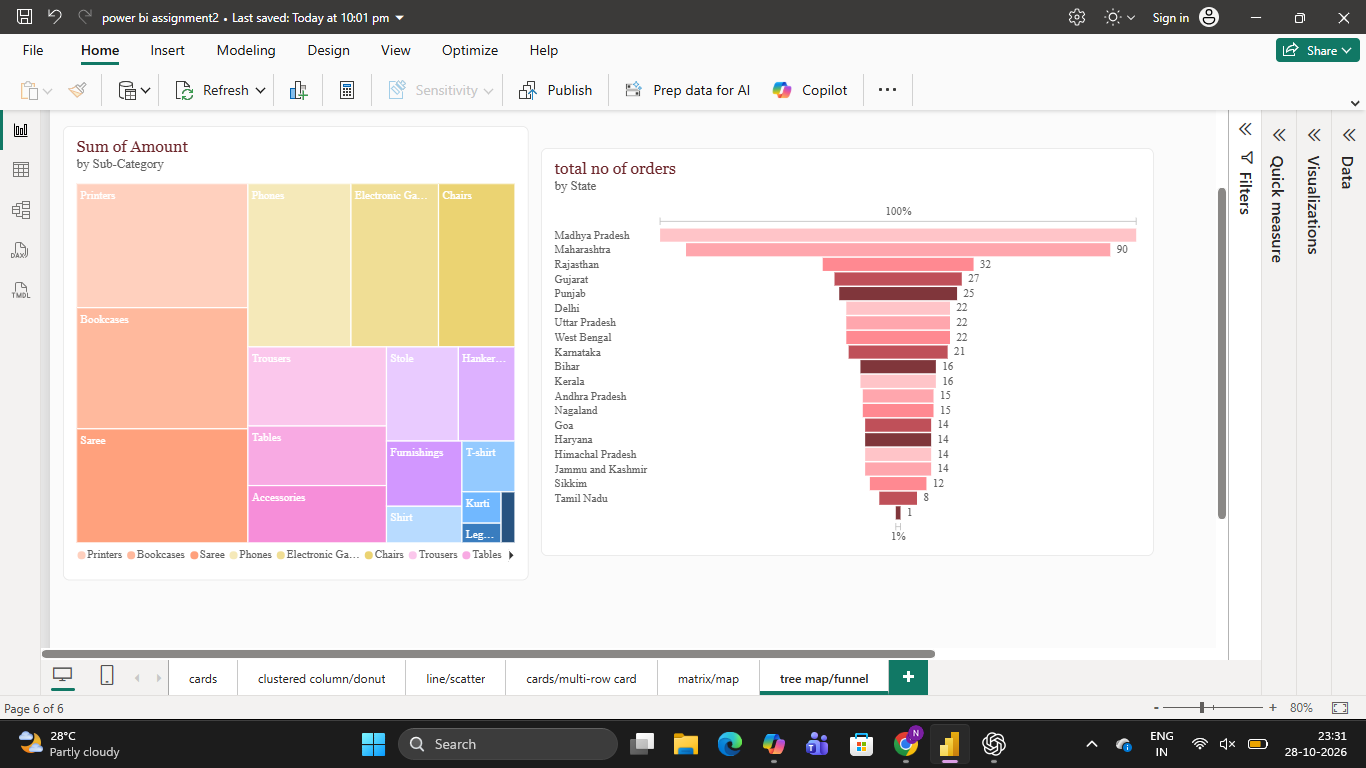

What the dashboard file says about the page in this screenshot:
{"tool":"powerbi","page":{"name":"tree map/funnel","canvas":[1920,1080],"ordinal":5},"visuals":[{"type":"treemap","fields":{"Group":["Order Details (1).Sub-Category"],"Values":["Sum(Order Details (1).Amount)"]},"box":[16,166,582,568],"z":0},{"type":"actionButton","box":[0,0,100,40],"z":1},{"type":"funnel","fields":{"Category":["List of Orders (1).State"],"Y":["Order Details (1).total no of orders"]},"box":[614,194,766,510],"z":2}]}

Visuals, with their boxes on the page's 1920x1080 design canvas (x1, y1, x2, y2). These are canvas units, not pixel positions in the 1366x768 screenshot, which may show the page scaled, cropped or inside an application window:
treemap - Order Details (1).Sub-Category x Sum(Order Details (1).Amount): box=[16, 166, 598, 734]
actionButton: box=[0, 0, 100, 40]
funnel - List of Orders (1).State x Order Details (1).total no of orders: box=[614, 194, 1380, 704]
